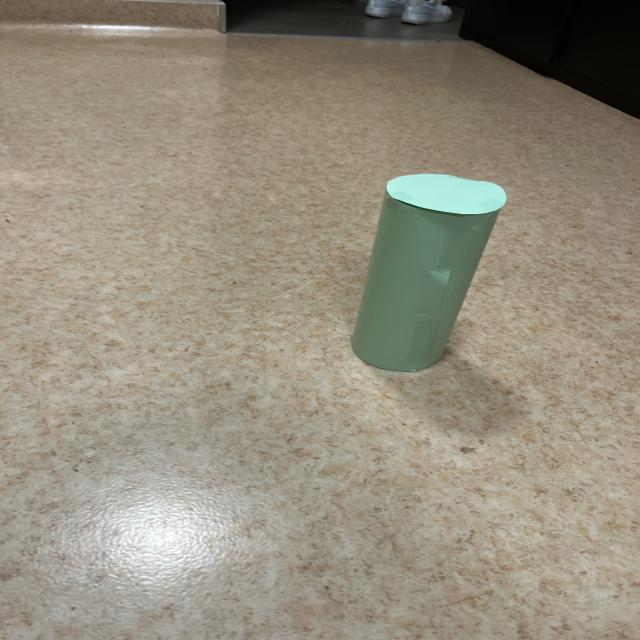meta: (352, 174, 506, 371)
